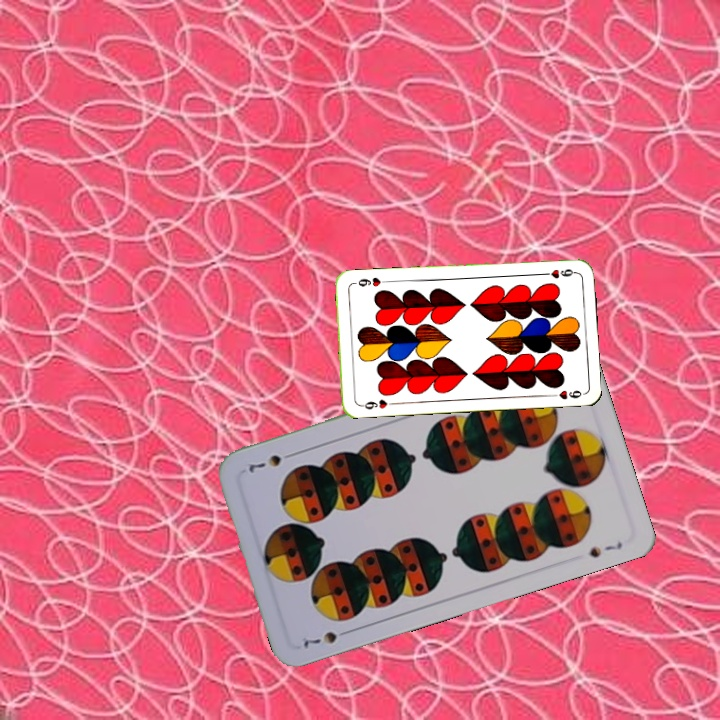H9: (356, 395, 396, 412), (538, 265, 578, 281)
S7: (299, 625, 354, 651)
